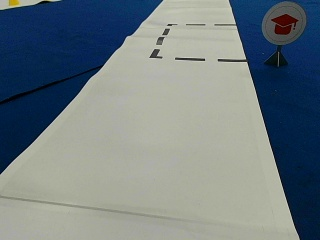school: (261, 2, 306, 44)
